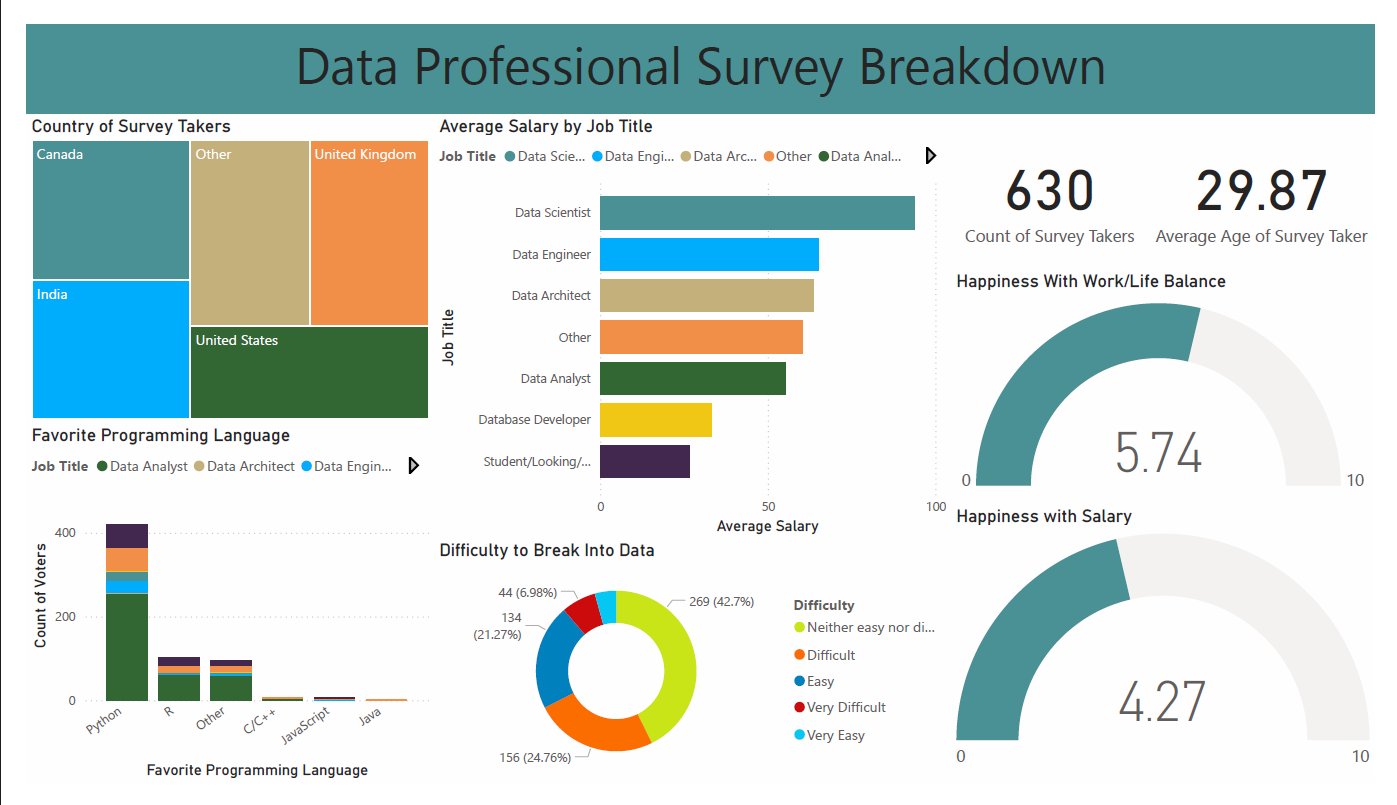

This screenshot's page, from the dashboard's own definition file:
{"tool":"powerbi","page":{"name":"Page 1","canvas":[1280,720],"ordinal":0},"visuals":[{"type":"textbox","box":[0,0,1280.3,86.4],"z":0},{"type":"card","fields":{"Values":["Count(Data Professional Survey.Unique ID)"]},"box":[878.2,86.4,186.6,150.9],"z":1000},{"type":"card","fields":{"Values":["Avg(Data Professional Survey.Q10 - Current Age)"]},"box":[1064.8,86.4,215.4,150.9],"z":2000},{"type":"barChart","title":"Average Salary by Job Title","fields":{"Category":["Data Professional Survey.Q1 - Which Title Best Fits your Current Role?.1"],"Y":["Avg(Data Professional Survey.Average Salary)"],"Series":["Data Professional Survey.Q1 - Which Title Best Fits your Current Role?.1"]},"box":[387,86.4,491.3,402.1],"z":3000},{"type":"columnChart","title":"Favorite Programming Language","fields":{"Category":["Data Professional Survey.Q5 - Favorite Programming Language.1"],"Y":["CountNonNull(Data Professional Survey.Unique ID)"],"Series":["Data Professional Survey.Q1 - Which Title Best Fits your Current Role?.1"]},"box":[0,380.1,387,340.3],"z":4000},{"type":"treemap","title":"Country of Survey Takers","fields":{"Group":["Data Professional Survey.Q11 - Which Country do you live in?.1"],"Values":["Count(Data Professional Survey.Q11 - Which Country do you live in?.1)"]},"box":[0,86.4,387,293.7],"z":5000},{"type":"gauge","title":"Happiness With Work/Life Balance","fields":{"Y":["Avg(Data Professional Survey.Q6 - How Happy are you in your Current Position with the following? (Work/Life Balance))"],"MinValue":["Min(Data Professional Survey.Q6 - How Happy are you in your Current Position with the following? (Work/Life Balance))1"],"MaxValue":["Max(Data Professional Survey.Q6 - How Happy are you in your Current Position with the following? (Work/Life Balance))2"]},"box":[878.2,233.3,402.1,222.3],"z":6000},{"type":"gauge","title":"Happiness with Salary","fields":{"Y":["Avg(Data Professional Survey.Q6 - How Happy are you in your Current Position with the following? (Salary))"],"MinValue":["Min(Data Professional Survey.Q6 - How Happy are you in your Current Position with the following? (Salary))"],"MaxValue":["Max(Data Professional Survey.Q6 - How Happy are you in your Current Position with the following? (Salary))"]},"box":[878.2,455.6,402.1,264.8],"z":7000},{"type":"donutChart","title":"Difficulty to Break Into Data","fields":{"Category":["Data Professional Survey.Q7 - How difficult was it for you to break into Data?"],"Y":["CountNonNull(Data Professional Survey.Q7 - How difficult was it for you to break into Data?)"]},"box":[387,488.5,491.3,231.9],"z":8000}]}

Visuals, with their boxes in screenshot pixels (x1, y1, x2, y2), scaled from the page's 1280x720 canvas onto the 1397x805 screenshot:
textbox: locate(0, 0, 1396, 97)
card - Count(Data Professional Survey.Unique ID): locate(958, 97, 1162, 265)
card - Avg(Data Professional Survey.Q10 - Current Age): locate(1162, 97, 1396, 265)
"Average Salary by Job Title" barChart: locate(422, 97, 959, 546)
"Favorite Programming Language" columnChart: locate(0, 425, 422, 804)
"Country of Survey Takers" treemap: locate(0, 97, 422, 425)
"Happiness With Work/Life Balance" gauge: locate(958, 261, 1396, 509)
"Happiness with Salary" gauge: locate(958, 509, 1396, 804)
"Difficulty to Break Into Data" donutChart: locate(422, 546, 959, 804)
